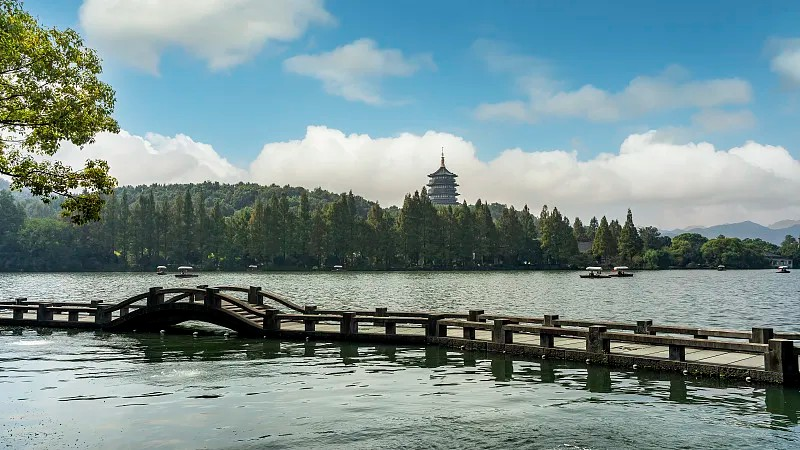Leifeng: (425, 145, 462, 212)
